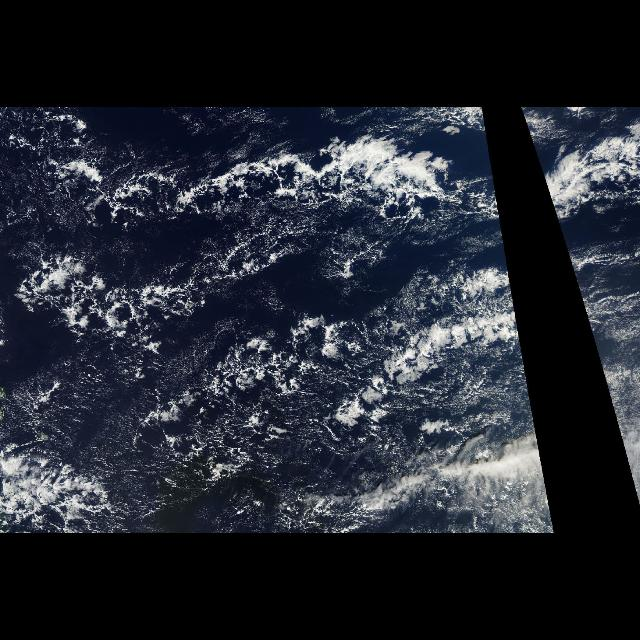Fish: (10, 129, 502, 357), (528, 133, 640, 234)
Gravel: (3, 112, 500, 532)
Sugar: (2, 344, 136, 458)
